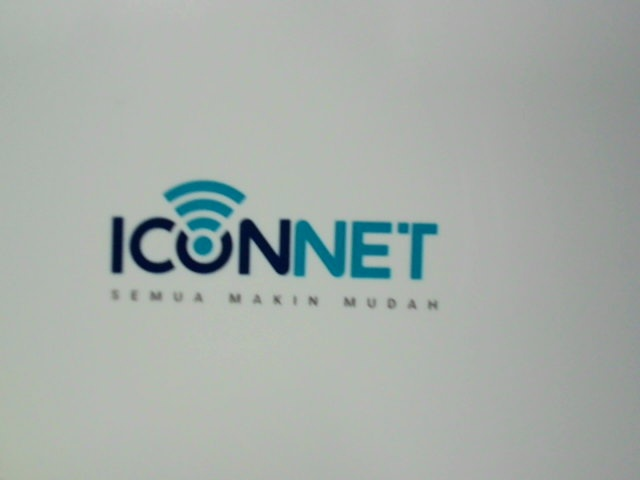BM_ICONNET: (84, 162, 467, 333)
